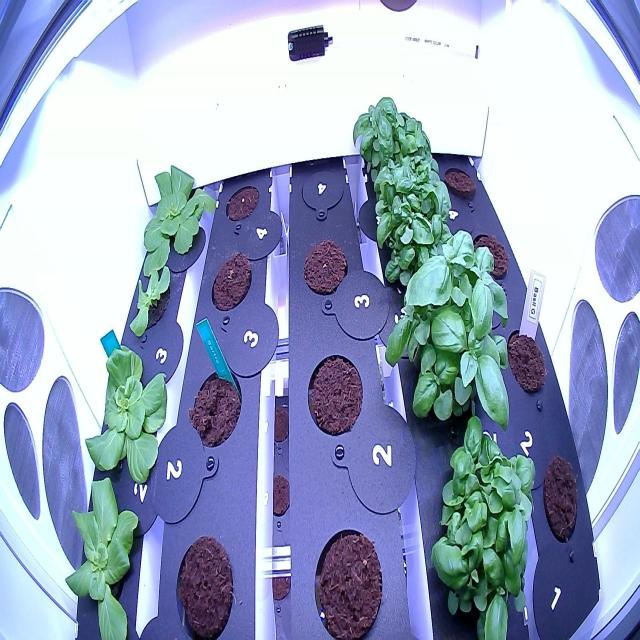empty_pod: (295, 154, 351, 223)
pod: (310, 518, 392, 639), (171, 522, 239, 640), (302, 344, 367, 439), (185, 360, 247, 456), (538, 448, 585, 550), (502, 310, 551, 404), (298, 228, 353, 305), (208, 244, 258, 320), (466, 226, 515, 286), (437, 155, 484, 205), (221, 174, 261, 231)
young: (75, 314, 173, 498), (60, 465, 142, 640), (136, 154, 221, 283), (121, 239, 182, 353)
